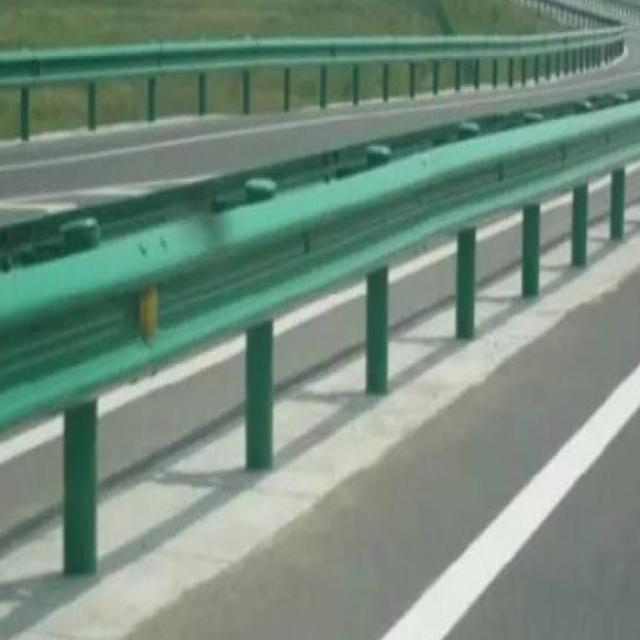Guard rail: (0, 101, 640, 432), (0, 24, 624, 139)
